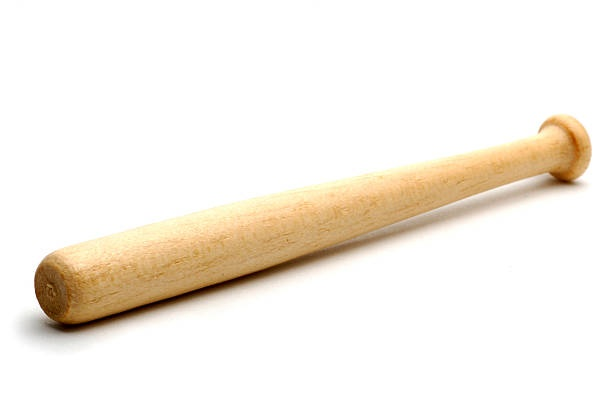bita: (38, 121, 592, 326)
